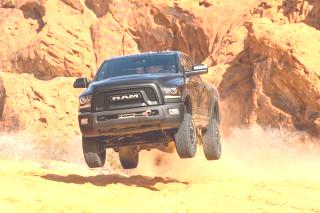ram: (107, 91, 142, 103)
